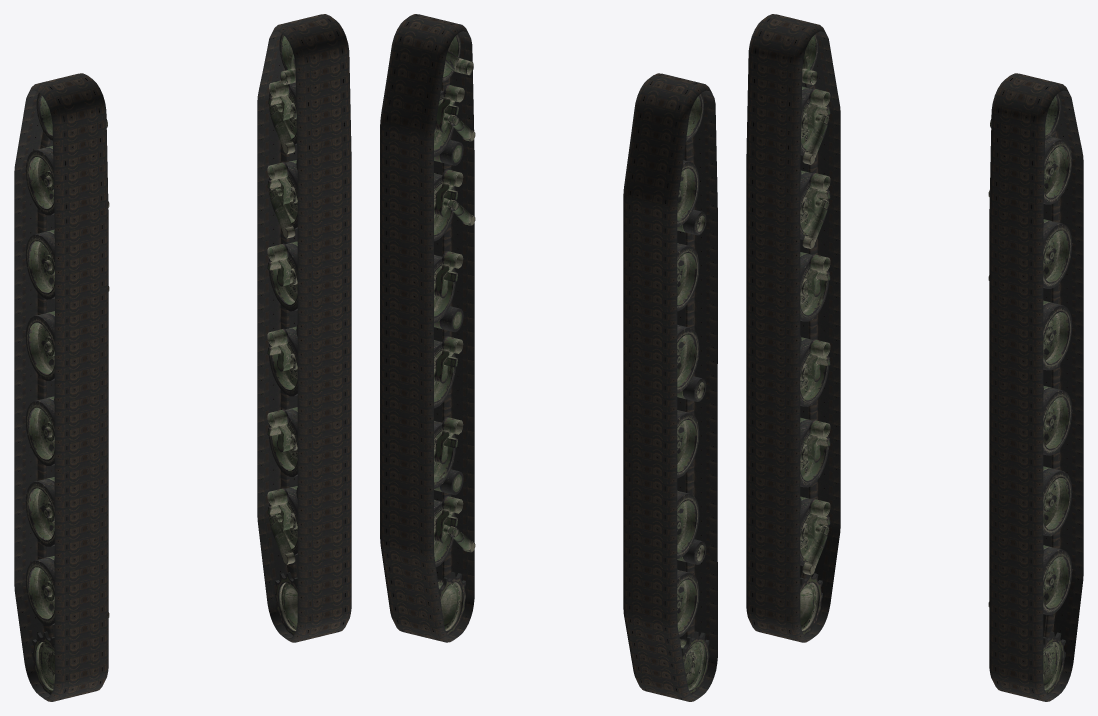
The model's file is Chassis.glb.
3 views of the same model, side by side, from view 1: azimuth 30°, elevation 25°; view 2: azimuth 150°, elevation 25°; view 3: azimuth 330°, elevation 25° (orthographic).
Visible parts, largest first — view 1: set_0_group_0, set_1_group_0, set_3_group_0, set_2_group_0; view 2: set_0_group_0, set_1_group_0, set_3_group_0, set_2_group_0; view 3: set_1_group_0, set_0_group_0, set_2_group_0, set_3_group_0.
Boxes of the visible parts, x1,y1,x2,y2 form: set_0_group_0: (14,73,108,701); set_1_group_0: (257,14,351,642); set_3_group_0: (267,33,297,635); set_2_group_0: (25,93,109,694); set_0_group_0: (623,73,717,701); set_1_group_0: (380,14,474,642); set_3_group_0: (434,33,475,635); set_2_group_0: (677,93,709,694); set_1_group_0: (989,73,1083,701); set_0_group_0: (746,14,840,642); set_2_group_0: (800,33,830,635); set_3_group_0: (988,93,1072,694).
Size of the model in its own units: 3.52 by 6.96 by 0.9554.
4 materials, 4 textured.
